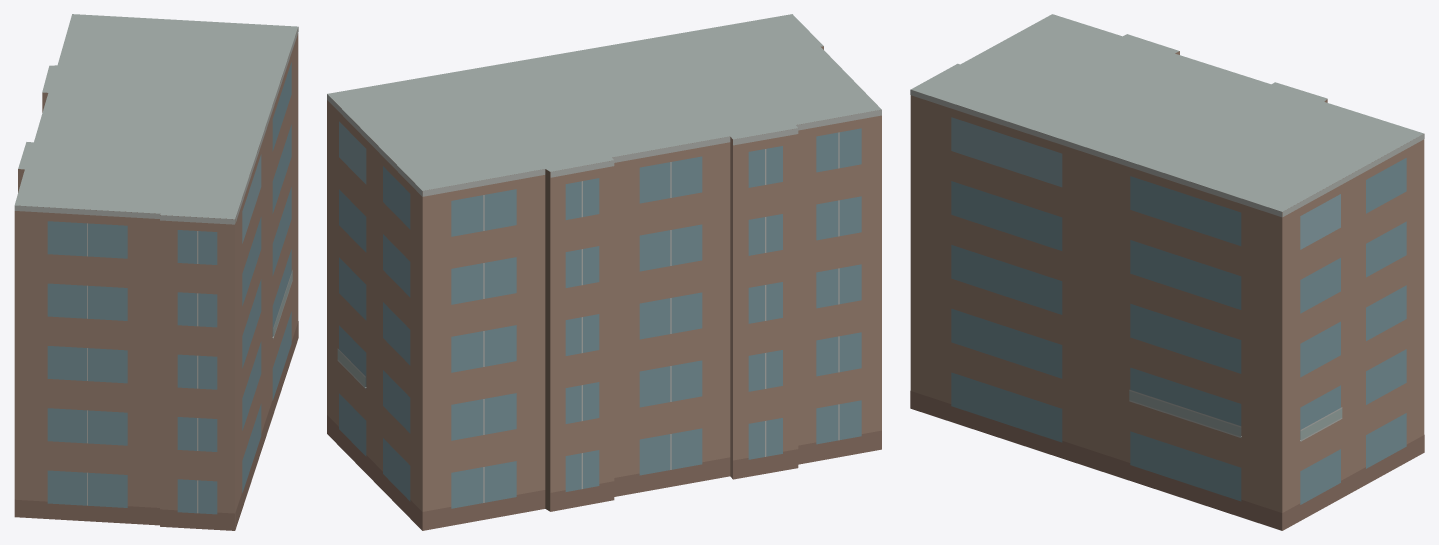
The model's file is survey-upis-32632069.glb.
3 renders of one model, left to right at view 1: azimuth 30°, elevation 25°; view 2: azimuth 150°, elevation 25°; view 3: azimuth 270°, elevation 25°, orthographic. The views are drawn at different scales.
Parts seen in each view (by area): view 1: survey-upis-32632069.tmp; view 2: survey-upis-32632069.tmp; view 3: survey-upis-32632069.tmp.
Boxes of the visible parts, x1=… form: survey-upis-32632069.tmp: x1=14, y1=14, x2=298, y2=530; survey-upis-32632069.tmp: x1=327, y1=14, x2=881, y2=530; survey-upis-32632069.tmp: x1=910, y1=14, x2=1424, y2=530.
Size of the model in its own units: 18.7 by 14.05 by 20.52.
